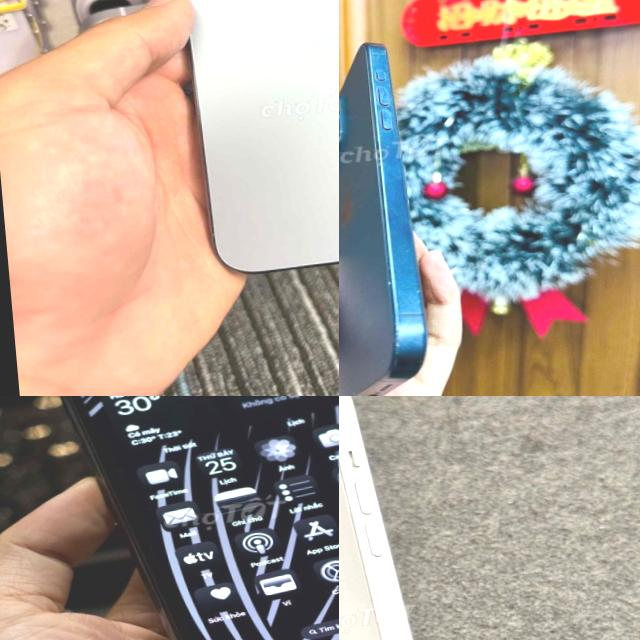gen_11: (62, 396, 339, 640)
gen_12_13: (162, 0, 339, 283)
gen_14: (339, 396, 462, 640)
gen_15: (339, 22, 454, 396)
